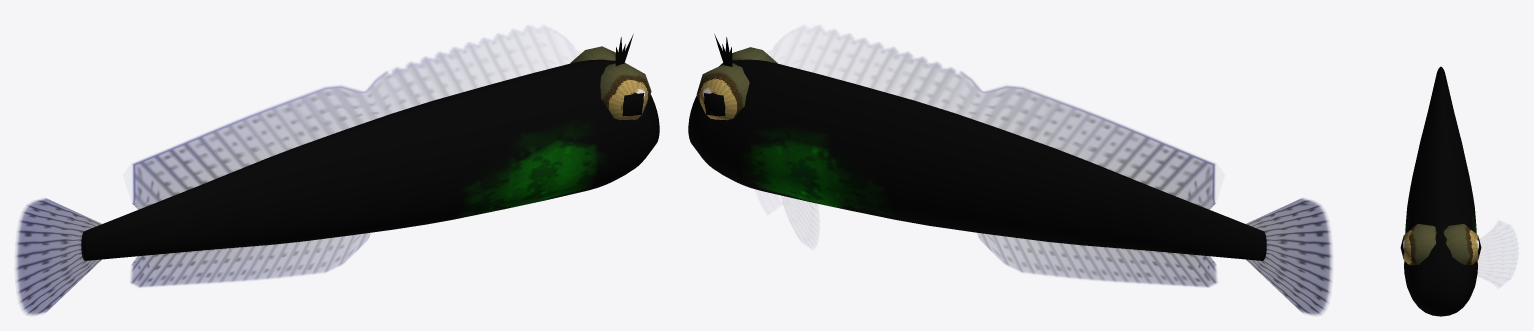
Rendered from lawnmower_blenny_lod1.glb.
3 views of the same model, side by side, from view 1: azimuth 30°, elevation 25°; view 2: azimuth 150°, elevation 25°; view 3: azimuth 270°, elevation 25° (orthographic). The views are drawn at different scales.
Visible parts, largest first — view 1: Body, FinDorsal, FinAnal, FinCaudal, EyeR, EyeL; view 2: Body, FinDorsal, FinAnal, FinCaudal, EyeL; view 3: Body, EyeL, EyeR.
Boxes of the visible parts, left/top/right/bottom form: Body: left=81, top=34, right=659, bottom=260; FinDorsal: left=132, top=36, right=520, bottom=209; FinAnal: left=131, top=233, right=370, bottom=287; FinCaudal: left=15, top=198, right=102, bottom=314; EyeR: left=600, top=63, right=651, bottom=120; EyeL: left=570, top=46, right=615, bottom=63; Body: left=688, top=34, right=1266, bottom=260; FinDorsal: left=827, top=36, right=1215, bottom=209; FinAnal: left=977, top=233, right=1216, bottom=287; FinCaudal: left=1245, top=198, right=1332, bottom=314; EyeL: left=696, top=63, right=749, bottom=120; Body: left=1404, top=66, right=1477, bottom=316; EyeL: left=1443, top=224, right=1481, bottom=265; EyeR: left=1400, top=224, right=1436, bottom=265.
Bounding box in the file's own units: 1 × 0.3027 × 0.2827.
4 materials, 3 textured.
